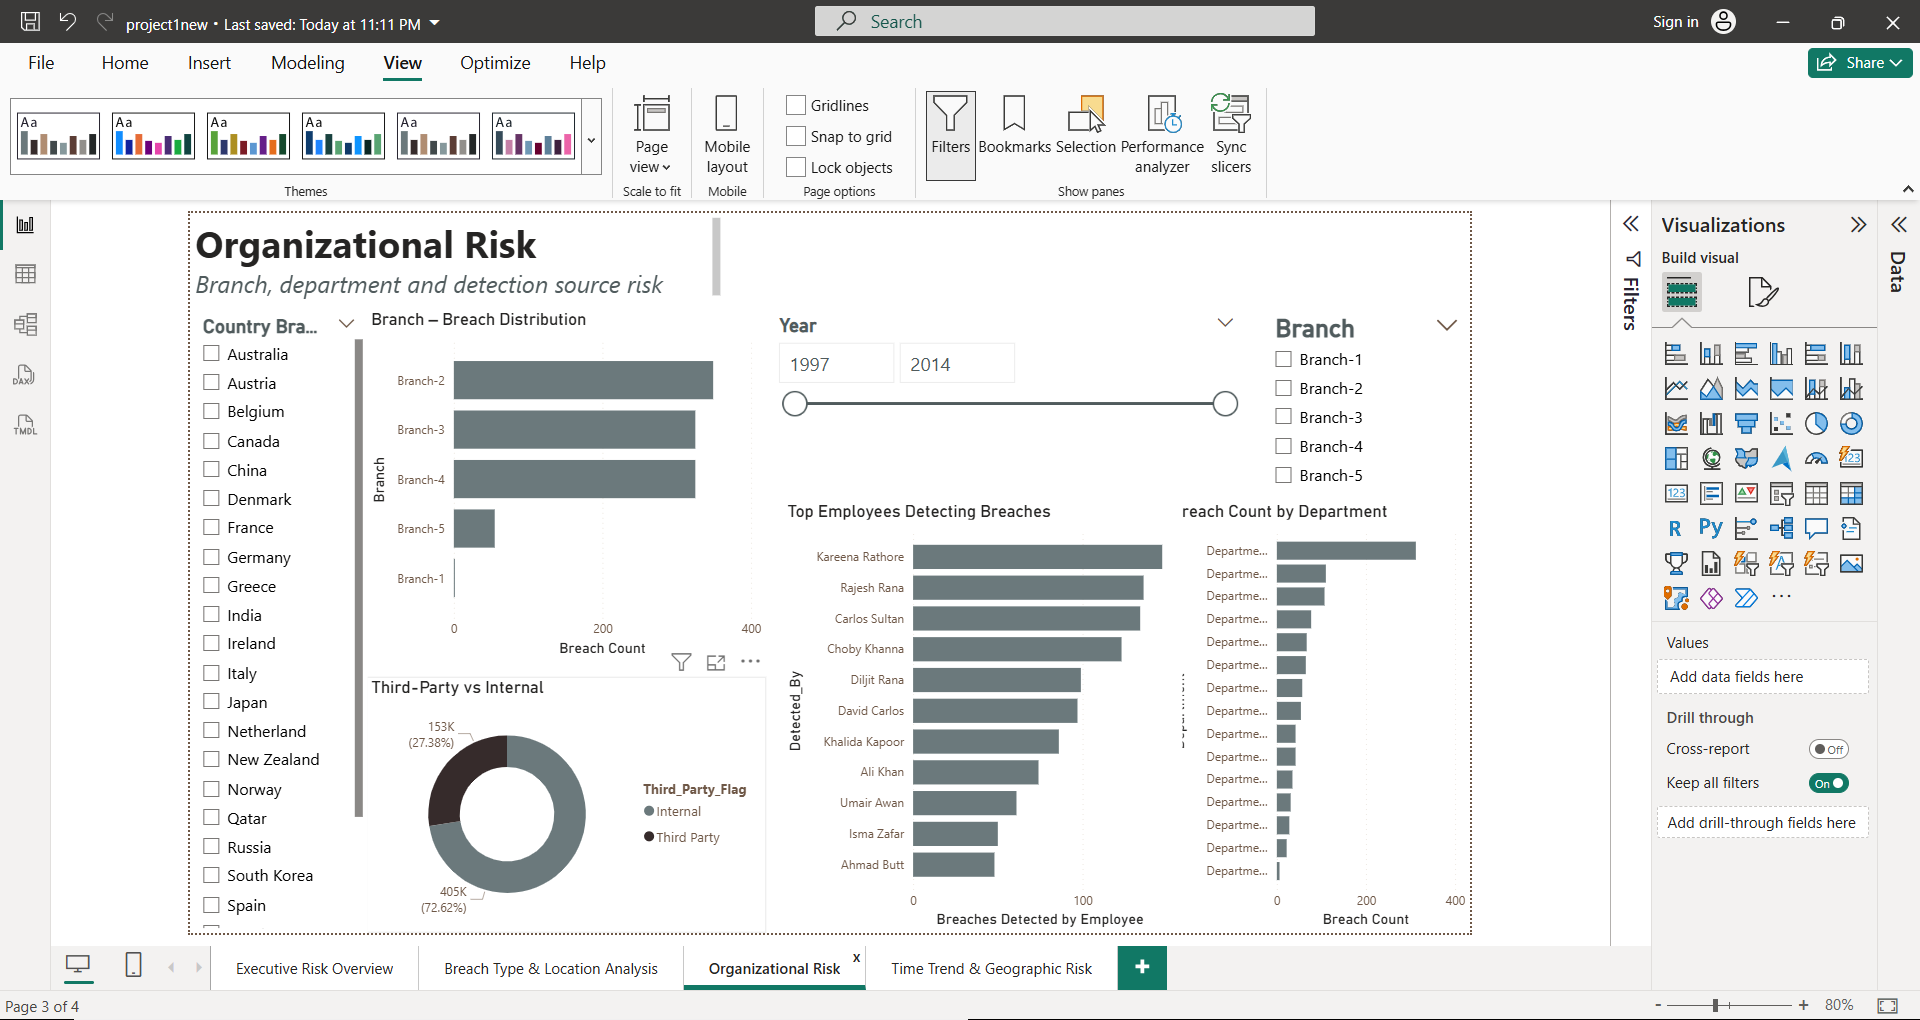

The dashboard page shown, as its layout file describes it:
{"tool":"powerbi","page":{"name":"Organizational Risk","canvas":[1280,720],"ordinal":2},"visuals":[{"type":"textbox","box":[0,0,535,97.5],"z":0},{"type":"clusteredBarChart","title":"Branch – Breach Distribution","fields":{"Category":["Final Transformed Data.Branch"],"Y":["Dashboard Measures.Breach Count"]},"box":[176,96,400,352],"z":1000},{"type":"clusteredBarChart","fields":{"Y":["Dashboard Measures.Breach Count"],"Category":["Final Transformed Data.Department"]},"box":[976,288,304,432],"z":2000},{"type":"donutChart","title":"Third-Party vs Internal","fields":{"Category":["Final Transformed Data.Third_Party_Flag"],"Y":["Sum(Final Transformed Data.Number)"]},"box":[176,464,400,256],"z":3000},{"type":"clusteredBarChart","title":"Top Employees Detecting Breaches","fields":{"Category":["Final Transformed Data.Detected_By"],"Y":["Dashboard Measures.Breaches Detected by Employee"]},"box":[592,288,400,432],"z":4000},{"type":"slicer","fields":{"Values":["Final Transformed Data.Year"]},"box":[576,96,480,192],"z":5000},{"type":"slicer","fields":{"Values":["Final Transformed Data.Branch"]},"box":[1072,96,208,192],"z":6000},{"type":"slicer","fields":{"Values":["Final Transformed Data.CountryBranch"]},"box":[0,97.5,177.5,622.5],"z":7000}]}

Visuals, with their boxes on the page's 1280x720 design canvas (x1, y1, x2, y2). These are canvas units, not pixel positions in the 1920x1020 screenshot, which may show the page scaled, cropped or inside an application window:
textbox: (0, 0, 535, 98)
"Branch – Breach Distribution" clusteredBarChart: (176, 96, 576, 448)
clusteredBarChart - Dashboard Measures.Breach Count x Final Transformed Data.Department: (976, 288, 1280, 720)
"Third-Party vs Internal" donutChart: (176, 464, 576, 720)
"Top Employees Detecting Breaches" clusteredBarChart: (592, 288, 992, 720)
slicer - Final Transformed Data.Year: (576, 96, 1056, 288)
slicer - Final Transformed Data.Branch: (1072, 96, 1280, 288)
slicer - Final Transformed Data.CountryBranch: (0, 98, 178, 720)
